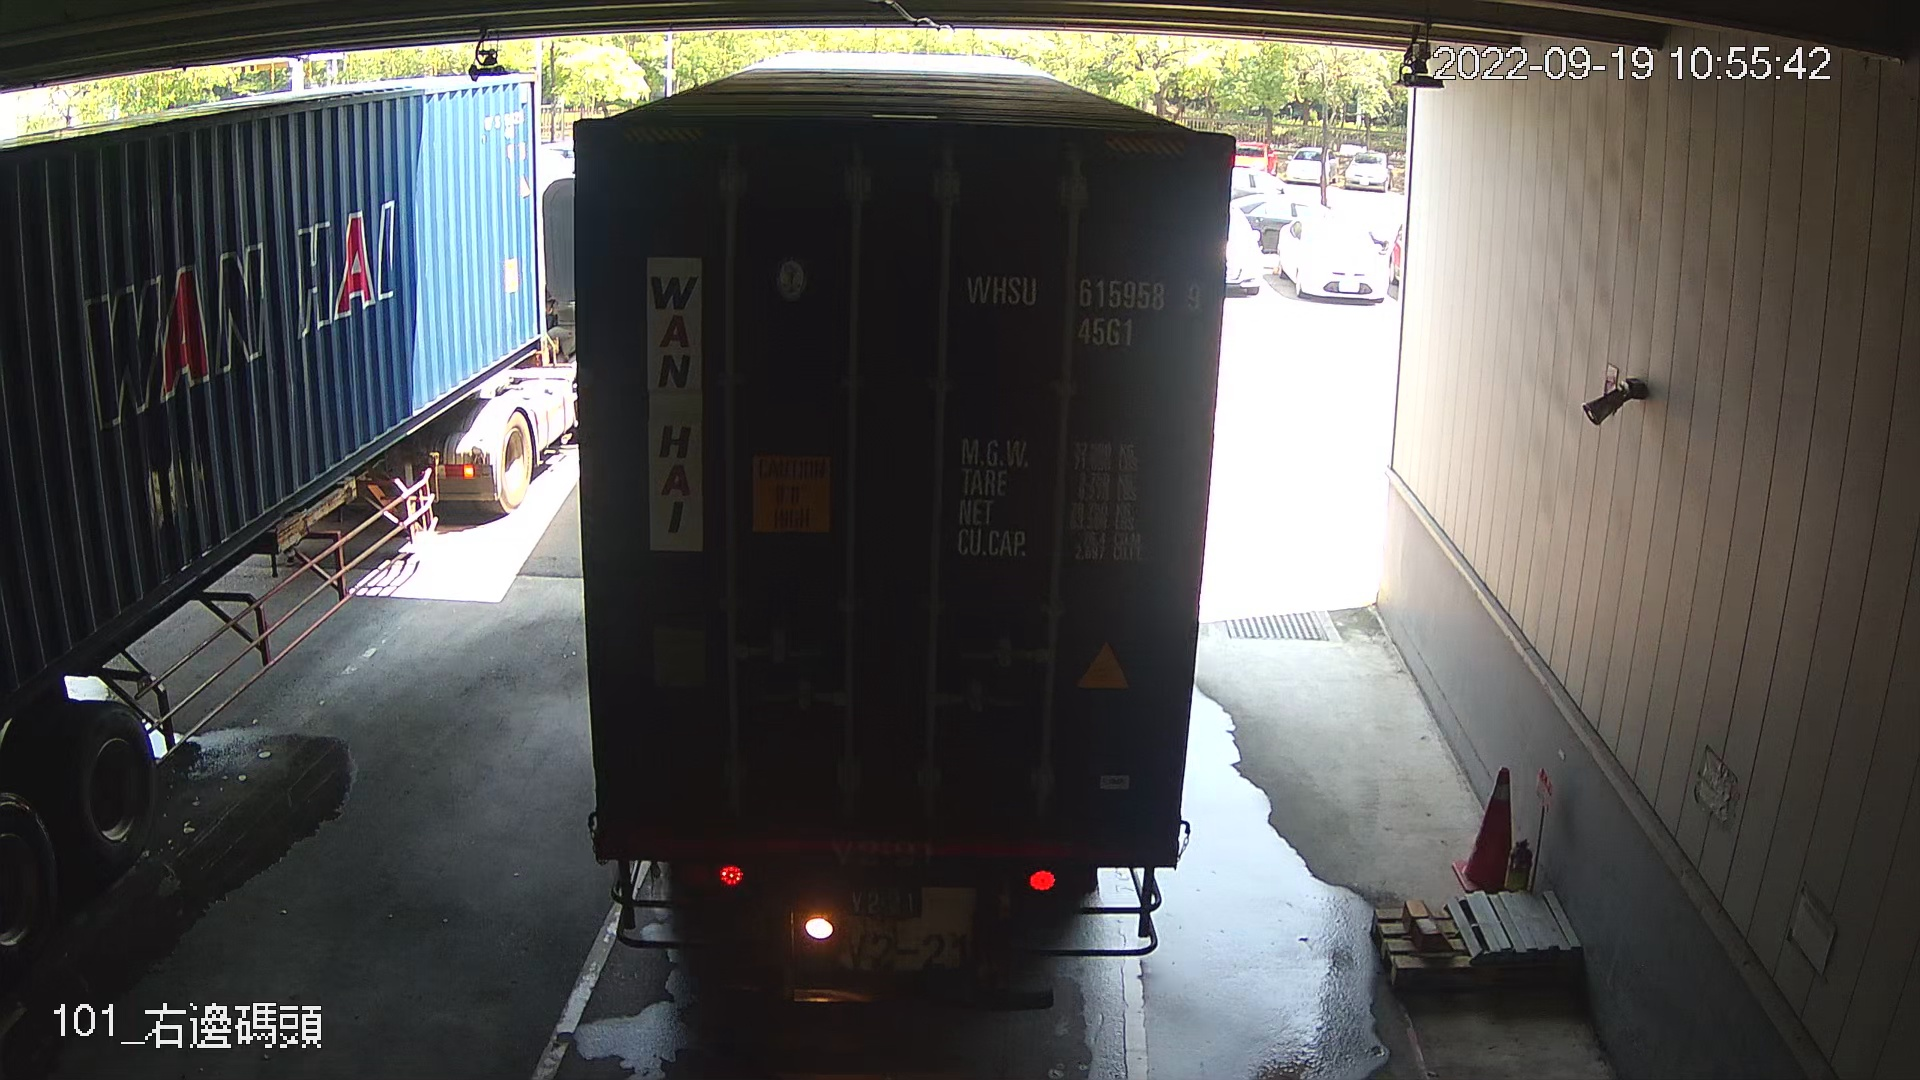container: (959, 258, 1207, 360)
